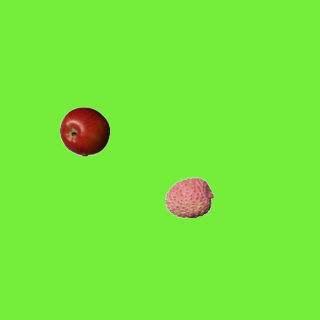Apple Braeburn: (59, 106, 109, 156)
Lychee: (164, 172, 214, 222)
